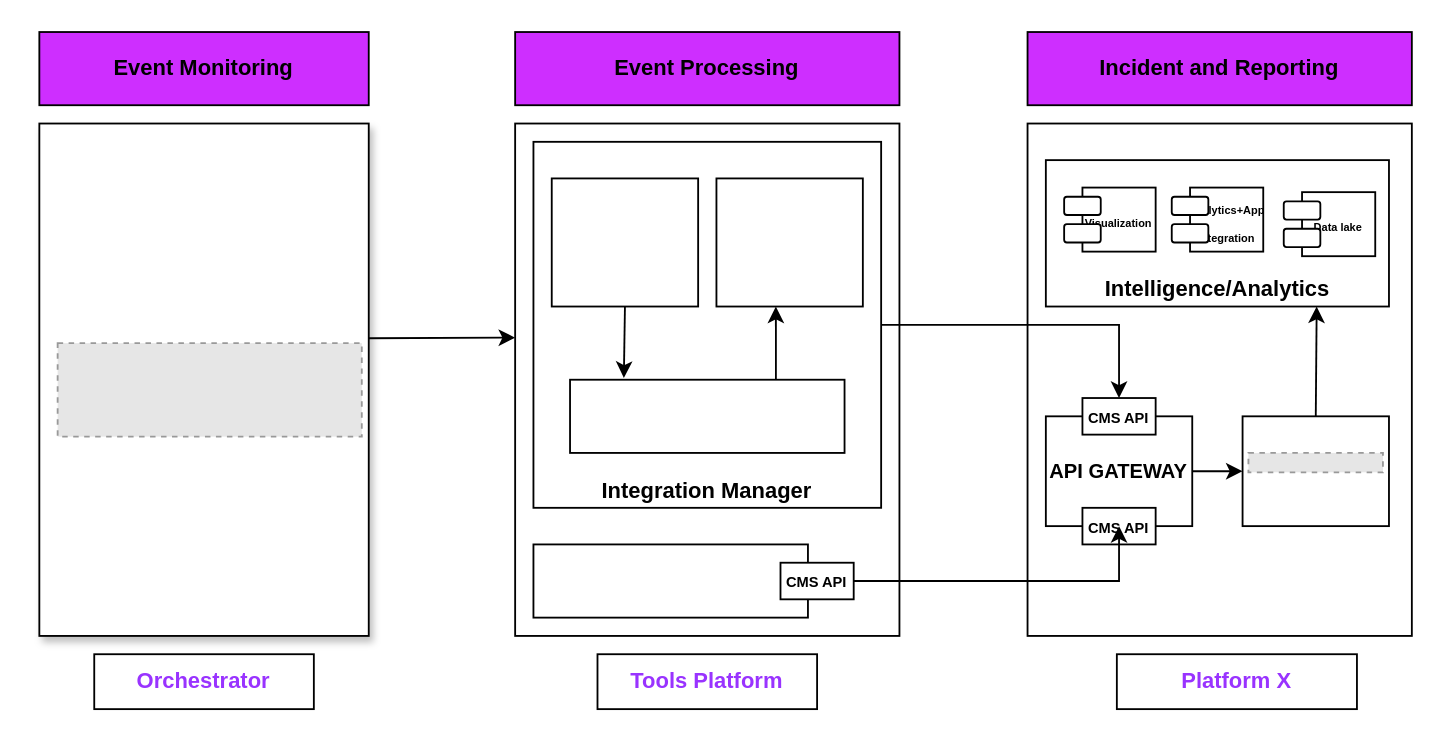
This 1444x741 diagram has some shape labels left out. Grey dashed boxes stand in for pictures. The centre of each missing label's shape, as x and y in pixels:
"CMDB+" belongs at point 670,580.
"Perf Data Edge Status.csv" belongs at point 789,242.
"PowerShell Code" belongs at point 706,415.
"Threshold.csv Counter_sync.csv CI_sync.csv Event_metrics.csv" belongs at point 624,242.
